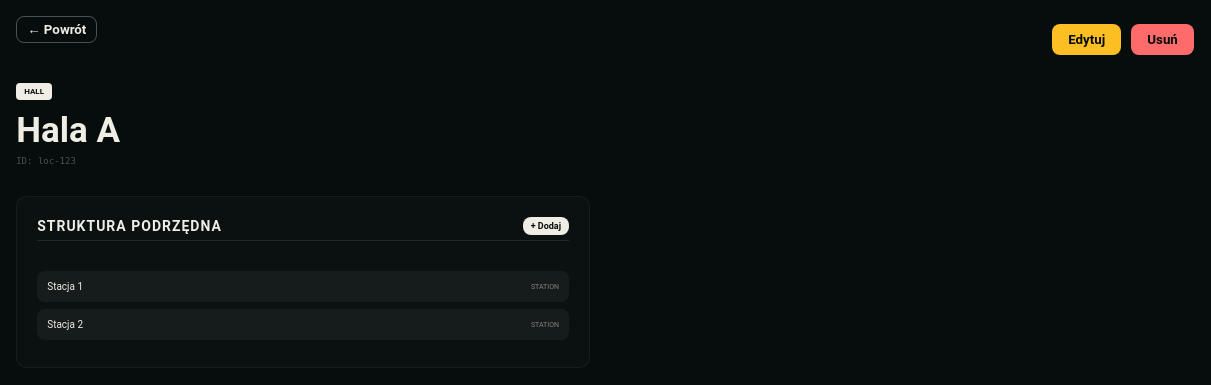
Test: LocationDetailsPage › tryb edycji › kliknięcie Anuluj ukrywa formularz edycji
The image size is (1211, 385).
Expected: the heading "Hala A" is shown, [16, 110, 120, 151]
Click the button "Edytuj" at (1087, 40), box [1052, 24, 1121, 55]
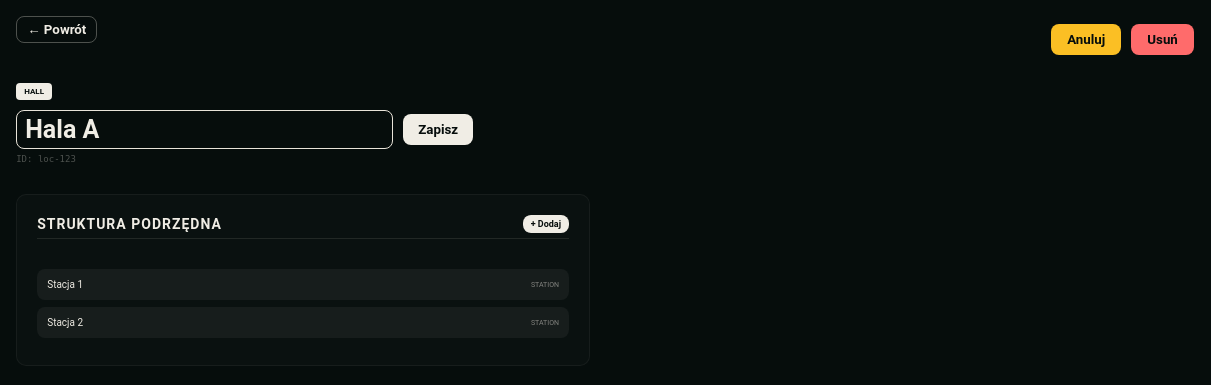
Click the button "Anuluj" at (1086, 40), box [1051, 24, 1121, 55]
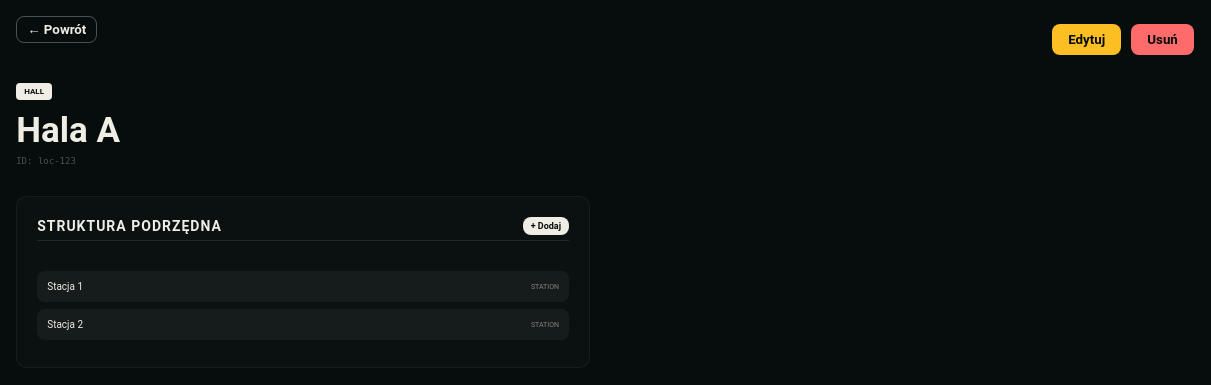
Expected: the heading "Hala A" is shown, [16, 110, 120, 151]
